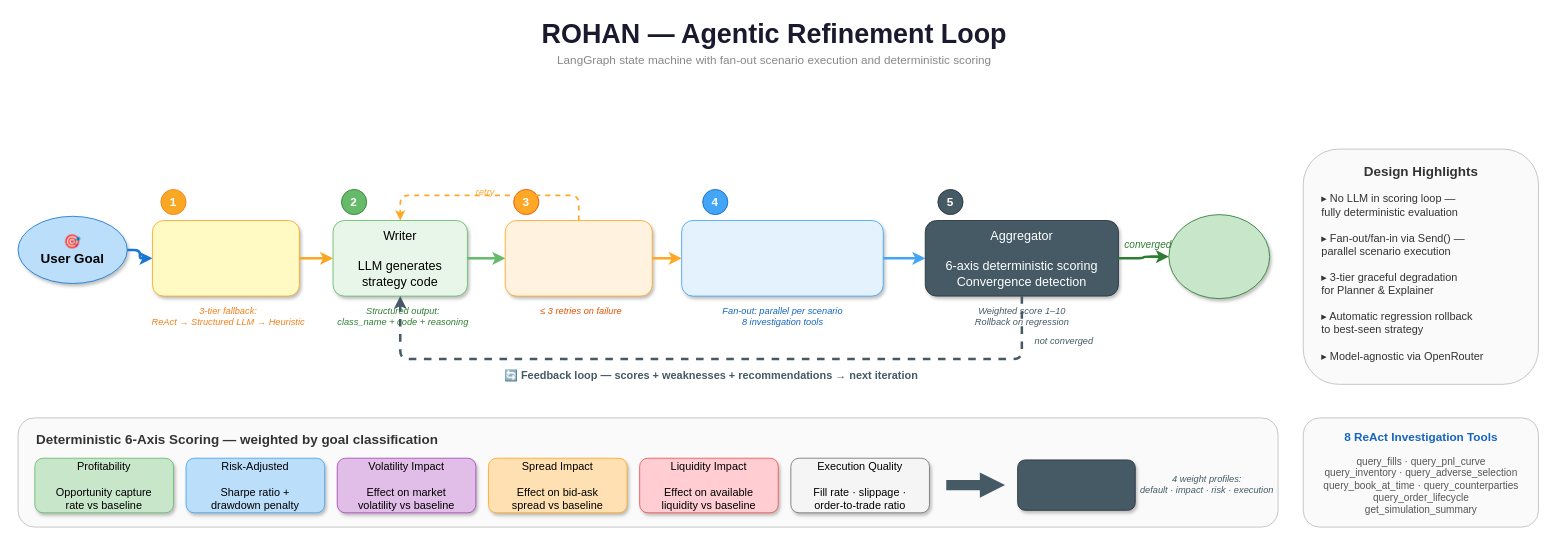
The diagram is 1553 pixels wide and 542 high, and some of its shapes have lost their labels. The shapes that lost their labels are listed below. From the top down, each one's centre as x and y in pixels, then its label:
At point (226, 259): "Planner Generate adversarial test scenarios".
At point (579, 259): "Validator AST safety checks + sandbox execution".
At point (782, 259): "Execute & Explain Run simulation per scenario ReAct agent investigates results".
At point (1220, 257): "✅ Best Strategy".
At point (1076, 486): "Final Score 1.0 – 10.0".
